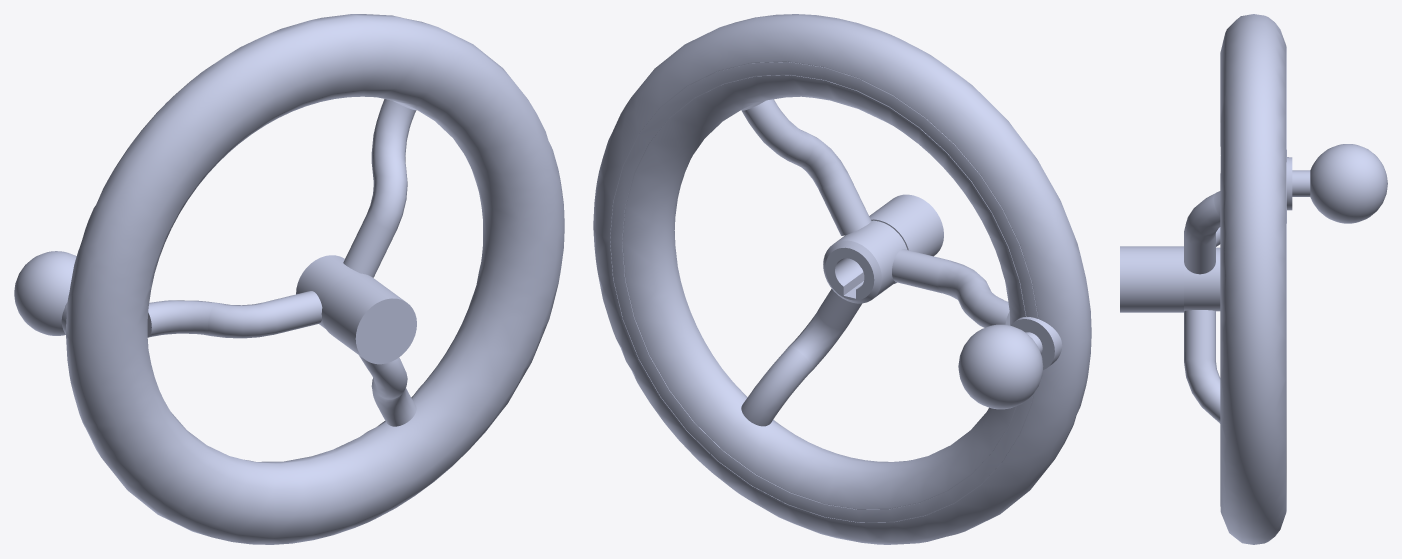
3 renders of one model, left to right at view 1: azimuth 30°, elevation 25°; view 2: azimuth 150°, elevation 25°; view 3: azimuth 270°, elevation 25°, orthographic. The views are drawn at different scales.
Visible parts, largest first — view 1: SOLID (×2); view 2: SOLID (×2); view 3: SOLID (×2).
Boxes of the visible parts, x1,y1,x2,y2 form: SOLID (×2): [14, 14, 564, 544]; SOLID (×2): [593, 14, 1091, 544]; SOLID (×2): [1120, 14, 1387, 544].
Size of the model in its own units: 0.2 by 0.2 by 0.1005.
